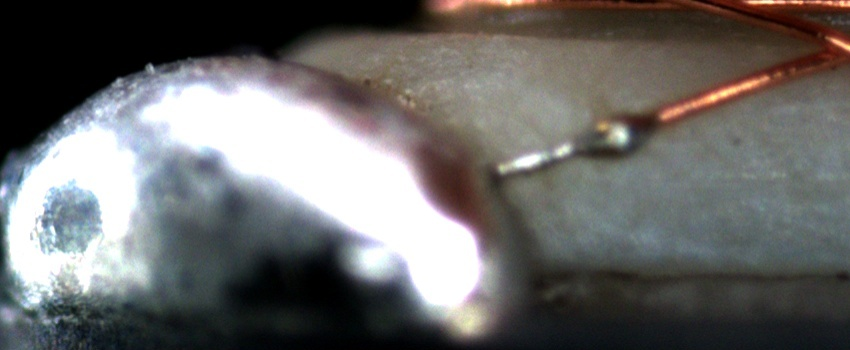CL: (794, 19, 849, 76)
DL: (630, 154, 850, 218), (686, 70, 850, 134)
TB: (578, 107, 654, 163)
TS: (492, 112, 657, 176)
TTCW: (481, 79, 724, 181)
